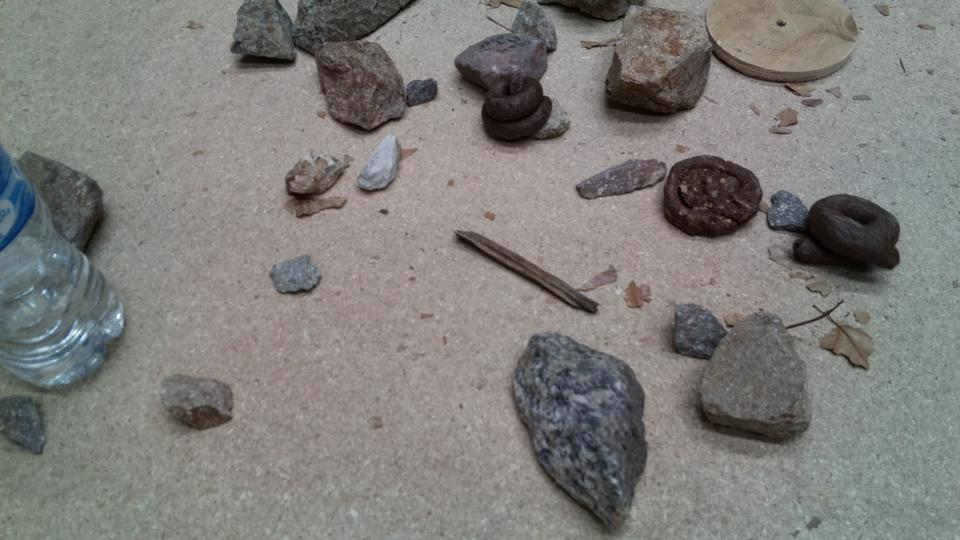poop: (659, 151, 763, 243), (789, 193, 907, 270), (478, 71, 554, 146)
